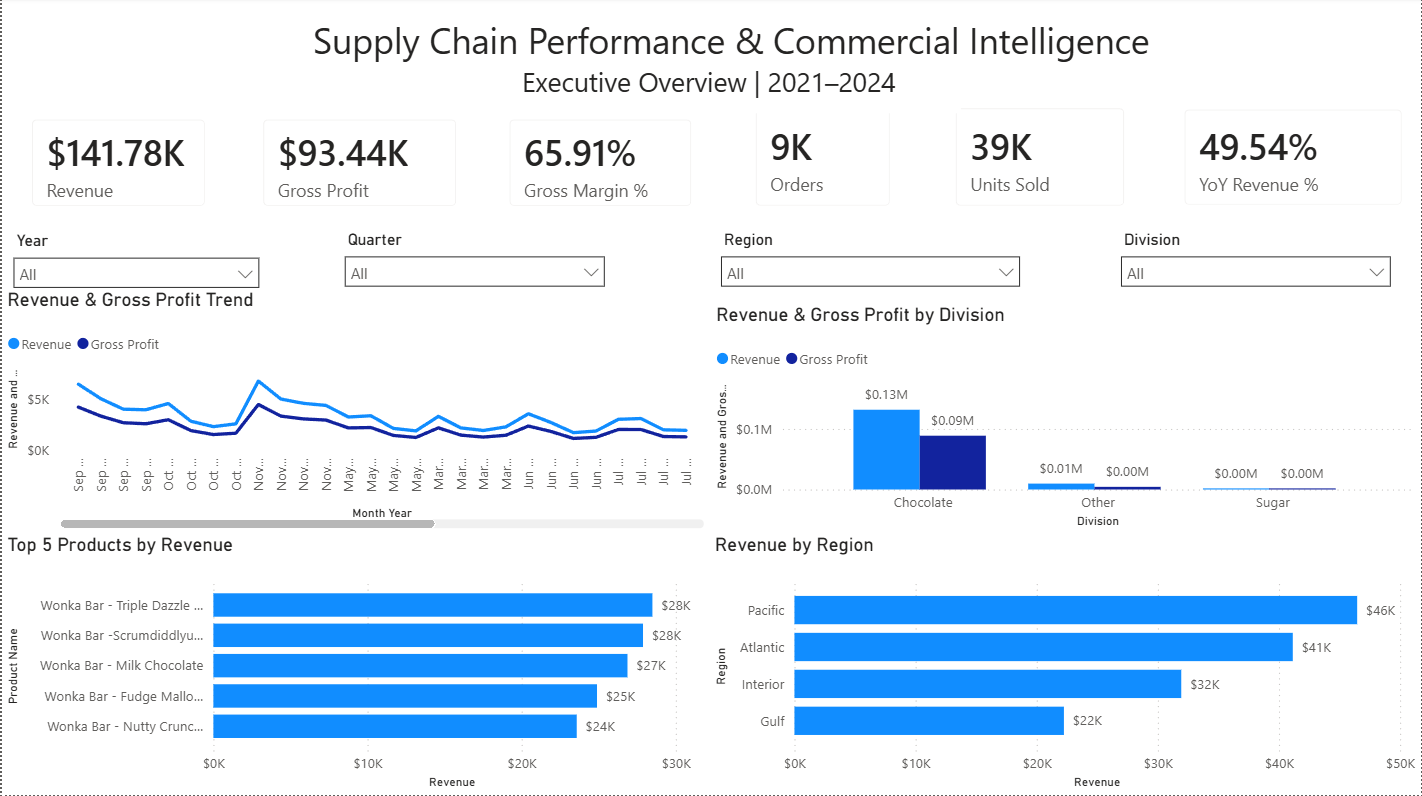

This screenshot's page, from the dashboard's own definition file:
{"tool":"powerbi","page":{"name":"Supply Chain Performance & Commercial Intelligence","canvas":[1280,720],"ordinal":0},"visuals":[{"type":"cardVisual","fields":{"Data":["_Measures.Revenue"]},"box":[9.6,93.3,190.7,112.5],"z":0},{"type":"cardVisual","fields":{"Data":["_Measures.Gross Profit"]},"box":[218.2,93.3,208.6,112.5],"z":1000},{"type":"cardVisual","fields":{"Data":["_Measures.Gross Margin %"]},"box":[440.5,93.3,199,112.5],"z":2000},{"type":"cardVisual","fields":{"Data":["_Measures.Orders"]},"box":[662.8,83.7,155.1,122.1],"z":3000},{"type":"cardVisual","fields":{"Data":["_Measures.Units Sold"]},"box":[842.5,83.7,186.6,122.1],"z":4000},{"type":"cardVisual","fields":{"Data":["_Measures.YoY Revenue %"]},"box":[1049.7,85.1,230.5,120.8],"z":5000},{"type":"textbox","box":[185.3,12.4,945.4,58.5],"z":6000},{"type":"slicer","fields":{"Values":["DimDate.Date.Variation.Date Hierarchy.Year"]},"box":[0,206.7,241.7,111.7],"z":7000},{"type":"slicer","fields":{"Values":["DimDivision.Division"]},"box":[998.3,205,263.3,111.7],"z":8000},{"type":"slicer","fields":{"Values":["DimDate.Date.Variation.Date Hierarchy.Quarter"]},"box":[298.3,205,255,111.7],"z":9000},{"type":"slicer","fields":{"Values":["DimCustomer.Region"]},"box":[638.3,205,290,111.7],"z":10000},{"type":"lineChart","title":"Revenue & Gross Profit Trend","fields":{"Category":["DimDate.Month Year"],"Y":["_Measures.Revenue","_Measures.Gross Profit"]},"box":[0,262.5,638.2,221.4],"z":11000},{"type":"clusteredColumnChart","title":"Revenue & Gross Profit by Division","fields":{"Category":["DimDivision.Division"],"Y":["_Measures.Revenue","_Measures.Gross Profit"]},"box":[639.4,276.2,638.2,207.7],"z":12000},{"type":"barChart","title":"Revenue by Region","fields":{"Category":["DimCustomer.Region"],"Y":["_Measures.Revenue"]},"box":[638.2,483.9,641.9,235.1],"z":13000},{"type":"barChart","title":"Top 5 Products by Revenue","fields":{"Category":["DimProduct.Product Name"],"Y":["_Measures.Revenue"]},"box":[0,483.9,640.6,235.1],"z":14000},{"type":"textbox","box":[410.5,54.7,454,49.8],"z":15000}]}

Visuals, with their boxes in screenshot pixels (x1, y1, x2, y2), scaled from the page's 1280x720 canvas onto the 1422x796 screenshot:
cardVisual - _Measures.Revenue: locate(11, 103, 223, 228)
cardVisual - _Measures.Gross Profit: locate(242, 103, 474, 228)
cardVisual - _Measures.Gross Margin %: locate(489, 103, 710, 228)
cardVisual - _Measures.Orders: locate(736, 93, 909, 228)
cardVisual - _Measures.Units Sold: locate(936, 93, 1143, 228)
cardVisual - _Measures.YoY Revenue %: locate(1166, 94, 1421, 228)
textbox: locate(206, 14, 1256, 78)
slicer - DimDate.Date.Variation.Date Hierarchy.Year: locate(0, 229, 269, 352)
slicer - DimDivision.Division: locate(1109, 227, 1402, 350)
slicer - DimDate.Date.Variation.Date Hierarchy.Quarter: locate(331, 227, 615, 350)
slicer - DimCustomer.Region: locate(709, 227, 1031, 350)
"Revenue & Gross Profit Trend" lineChart: locate(0, 290, 709, 535)
"Revenue & Gross Profit by Division" clusteredColumnChart: locate(710, 305, 1419, 535)
"Revenue by Region" barChart: locate(709, 535, 1421, 795)
"Top 5 Products by Revenue" barChart: locate(0, 535, 712, 795)
textbox: locate(456, 60, 960, 116)
